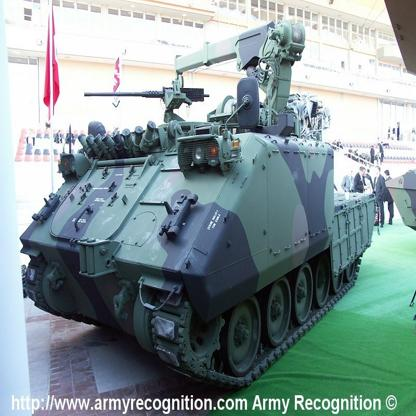Tank: (15, 19, 382, 391)
